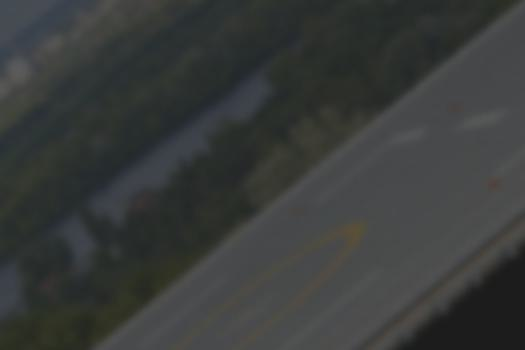Apron: (170, 220, 368, 347)
